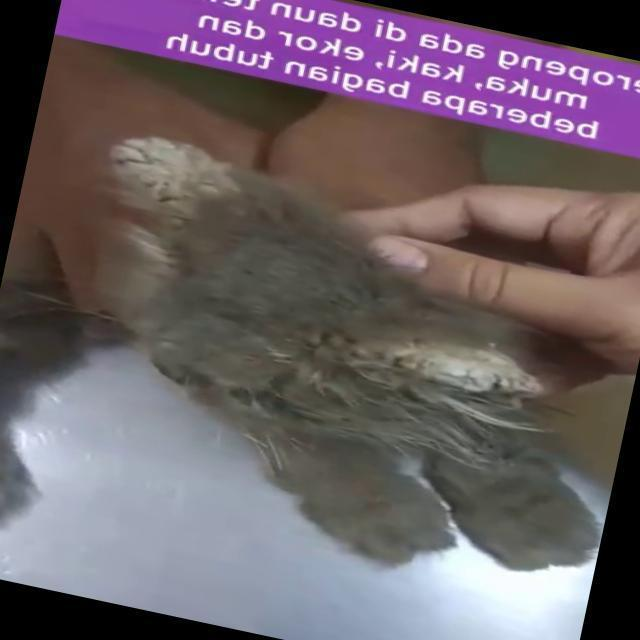ghe: (322, 327, 552, 488), (92, 134, 255, 274)
